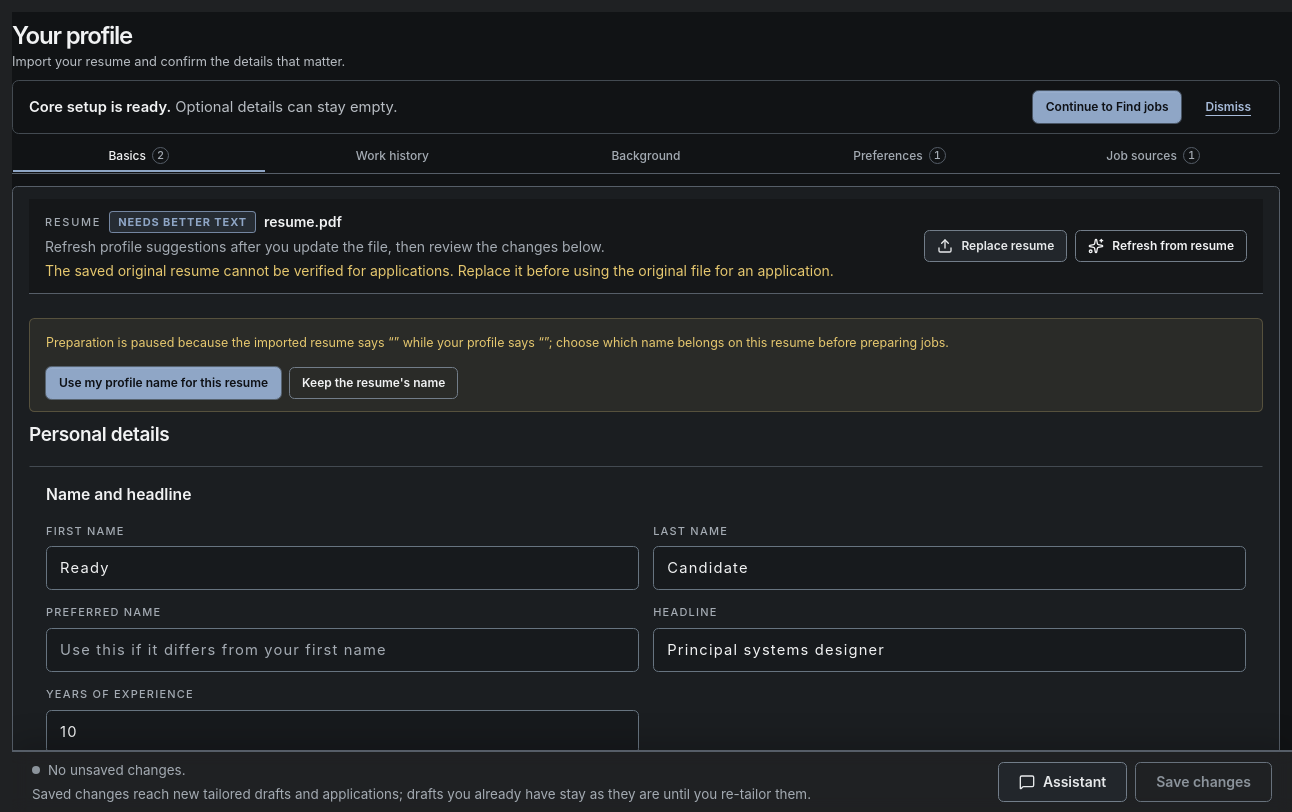
Test: ProfileScreen ready-state density and save-bar footprint › keeps the save path wired from the shared save bar to both payloads
Replace the text in the field named "identity.headline" with "Updated headline" at (950,650), box [653,628,1246,672]
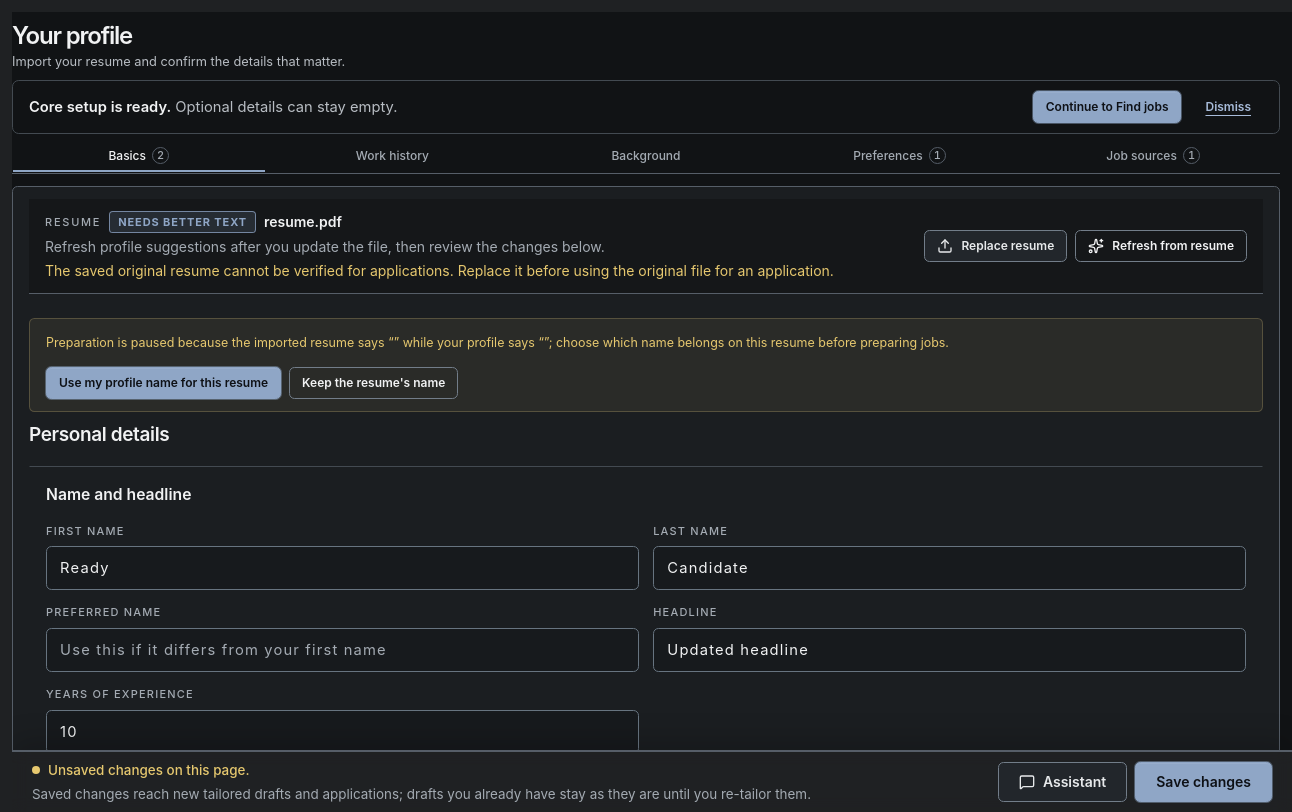
Click the button "Save changes" at (1204,782), box [1135,762,1272,802]
(page scrolled)
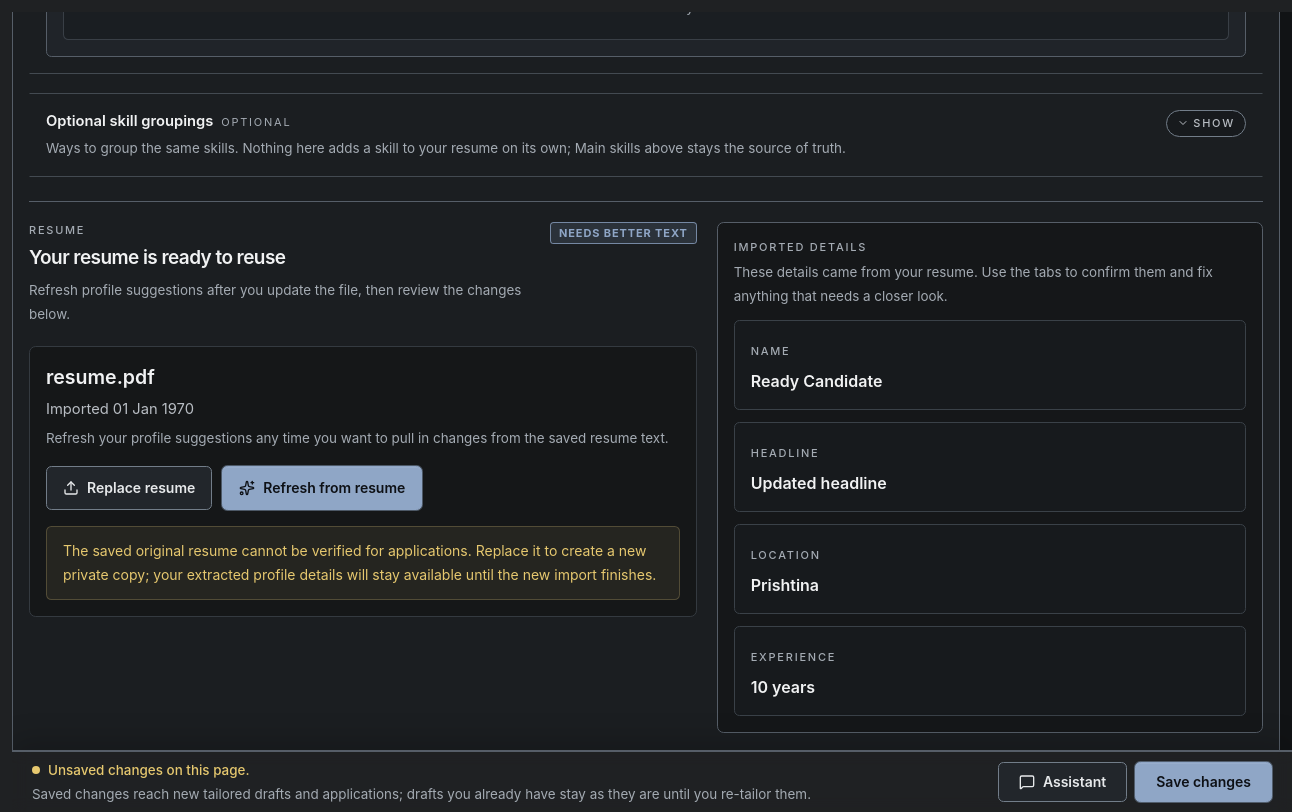
Expected: the text "Ready Candidate" is shown, [751,371,882,391]
